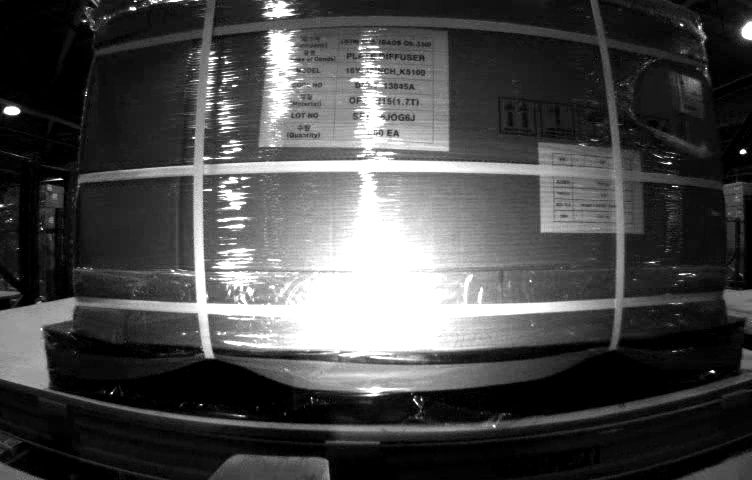True Barcode: (668, 73, 705, 117)
